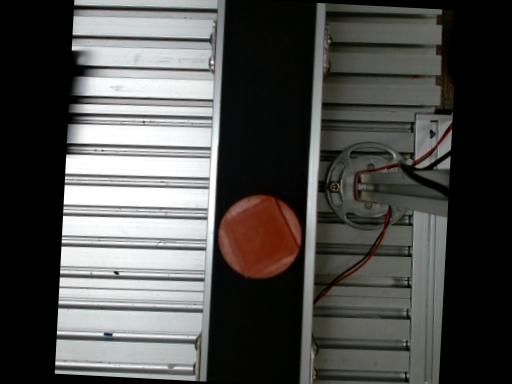Brown_Waper: (218, 194, 301, 278)
Square: (221, 194, 299, 277)
